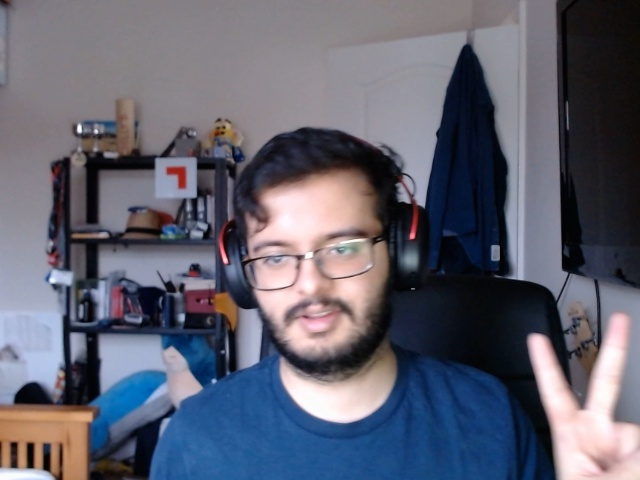Peace: (498, 307, 640, 480)
